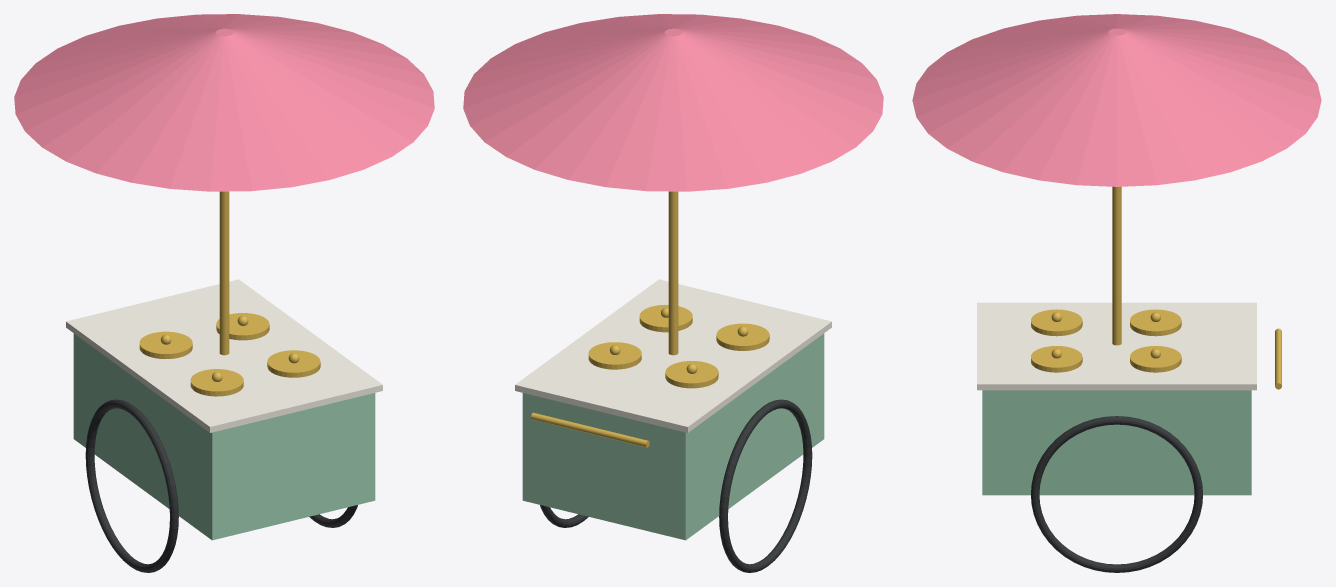
File: ice-cream-cart.glb
The picture shows the model from 3 angles, left to right: view 1: azimuth 30°, elevation 25°; view 2: azimuth 150°, elevation 25°; view 3: azimuth 270°, elevation 25°; orthographic projection. The views are drawn at different scales.
Visible parts, largest first — view 1: Cone, Cube, Cube.001, Torus, Cylinder.004, Cylinder, Cylinder.001, Cylinder.002, Cylinder.003; view 2: Cone, Cube, Cube.001, Torus, Cylinder.004, Cylinder.003, Cylinder, Cylinder.002, Cylinder.005, Cylinder.001; view 3: Cone, Cube, Cube.001, Torus.001, Cylinder.004, Cylinder, Cylinder.001, Cylinder.002, Cylinder.003.
Part boxes in pixels (box(x1,y1,x2,y2)): Cone: box(14, 14, 434, 191); Cube: box(73, 333, 375, 540); Cube.001: box(66, 279, 382, 432); Torus: box(85, 399, 178, 572); Cylinder.004: box(219, 191, 229, 355); Cylinder: box(190, 369, 243, 396); Cylinder.001: box(267, 350, 320, 377); Cylinder.002: box(139, 331, 192, 359); Cylinder.003: box(216, 313, 269, 340); Cone: box(463, 14, 883, 191); Cube: box(522, 333, 824, 540); Cube.001: box(515, 279, 831, 432); Torus: box(719, 399, 812, 572); Cylinder.004: box(668, 191, 678, 355); Cylinder.003: box(588, 342, 641, 369); Cylinder: box(716, 323, 769, 350); Cylinder.002: box(665, 361, 718, 388); Cylinder.005: box(531, 412, 649, 447); Cylinder.001: box(639, 305, 692, 332); Cone: box(912, 14, 1321, 186); Cube: box(982, 390, 1251, 495); Cube.001: box(977, 302, 1256, 390); Torus.001: box(1031, 416, 1202, 572); Cylinder.004: box(1112, 186, 1121, 345); Cylinder: box(1031, 309, 1082, 336); Cylinder.001: box(1031, 346, 1082, 372); Cylinder.002: box(1130, 309, 1181, 336); Cylinder.003: box(1130, 346, 1181, 372).
Bounding box in the file's own units: 1.9 × 2.54 × 1.9.
